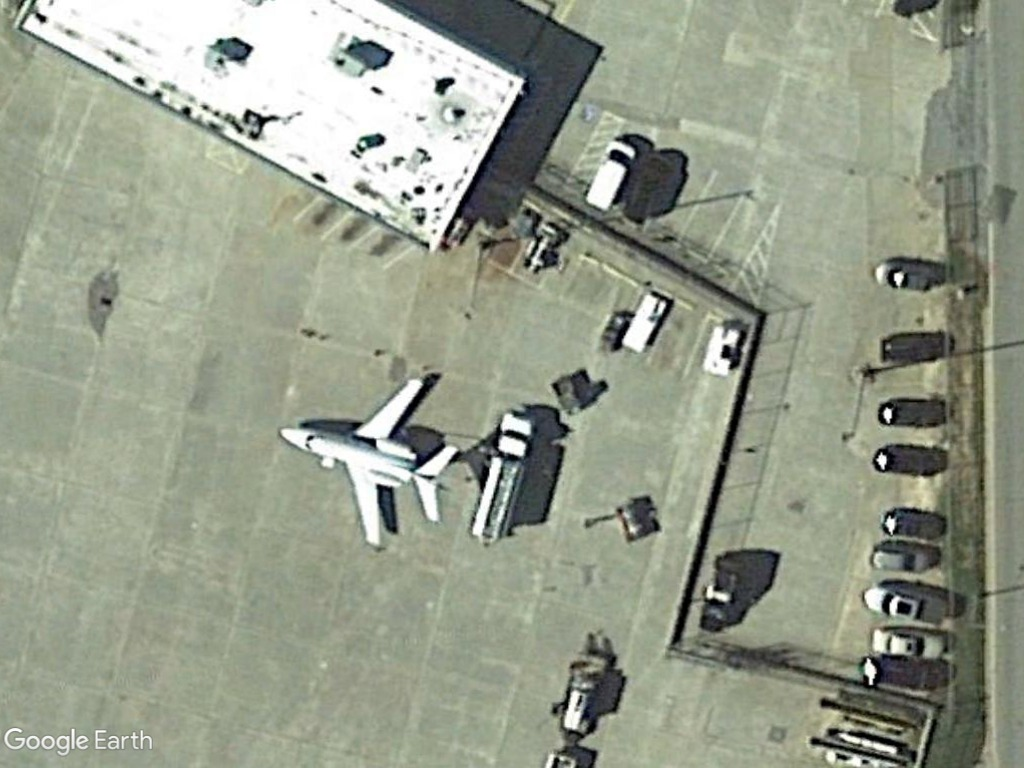car: (857, 580, 936, 621), (865, 628, 952, 662)
chartered: (268, 367, 456, 555)
van: (581, 136, 637, 215)
